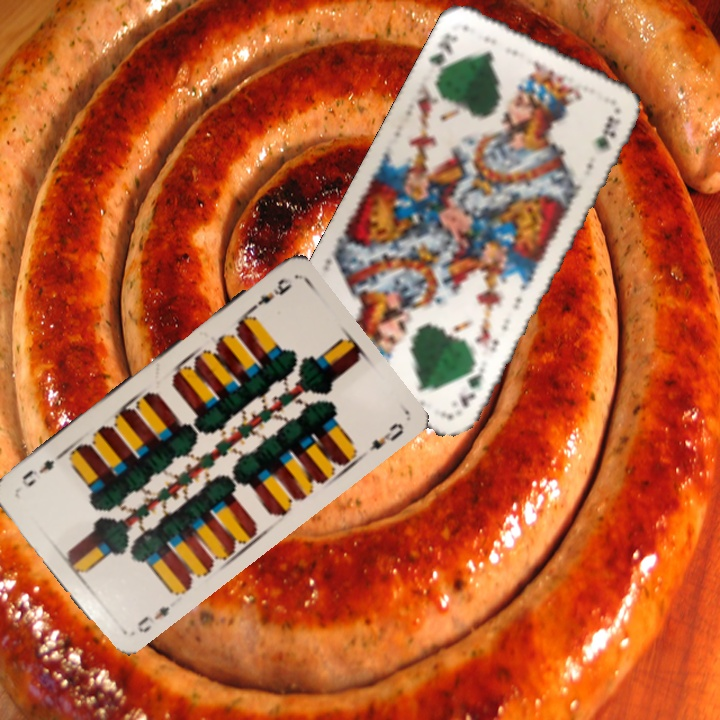E9: (244, 274, 295, 316), (133, 602, 172, 636)
GK: (424, 28, 461, 78), (455, 360, 488, 410)
